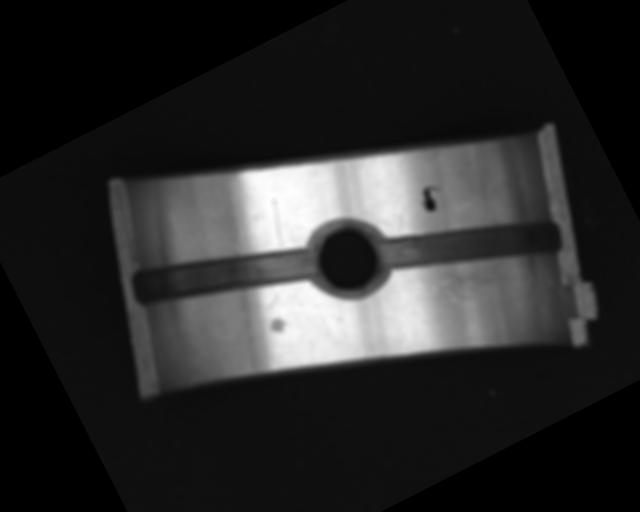blot: (415, 180, 450, 216)
bruise: (265, 312, 291, 338)
gap: (374, 169, 567, 324)
hole: (127, 196, 324, 352), (297, 205, 399, 306)
nick: (258, 198, 297, 250)
scratch: (405, 233, 513, 321)
